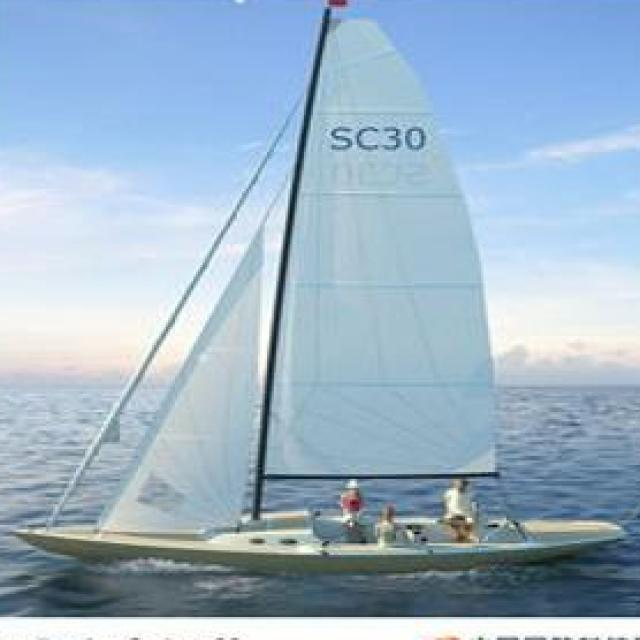sailboat: (25, 0, 635, 566)
